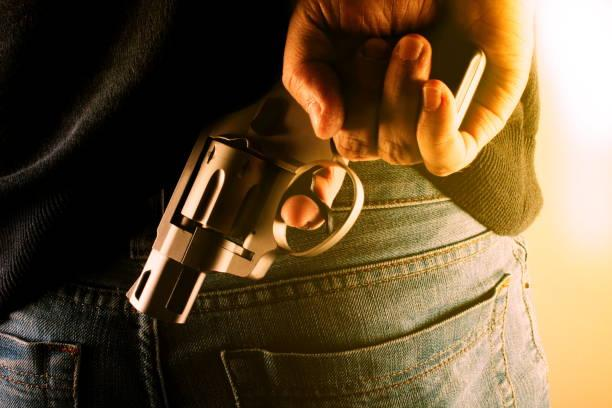weapon: (119, 30, 484, 330)
